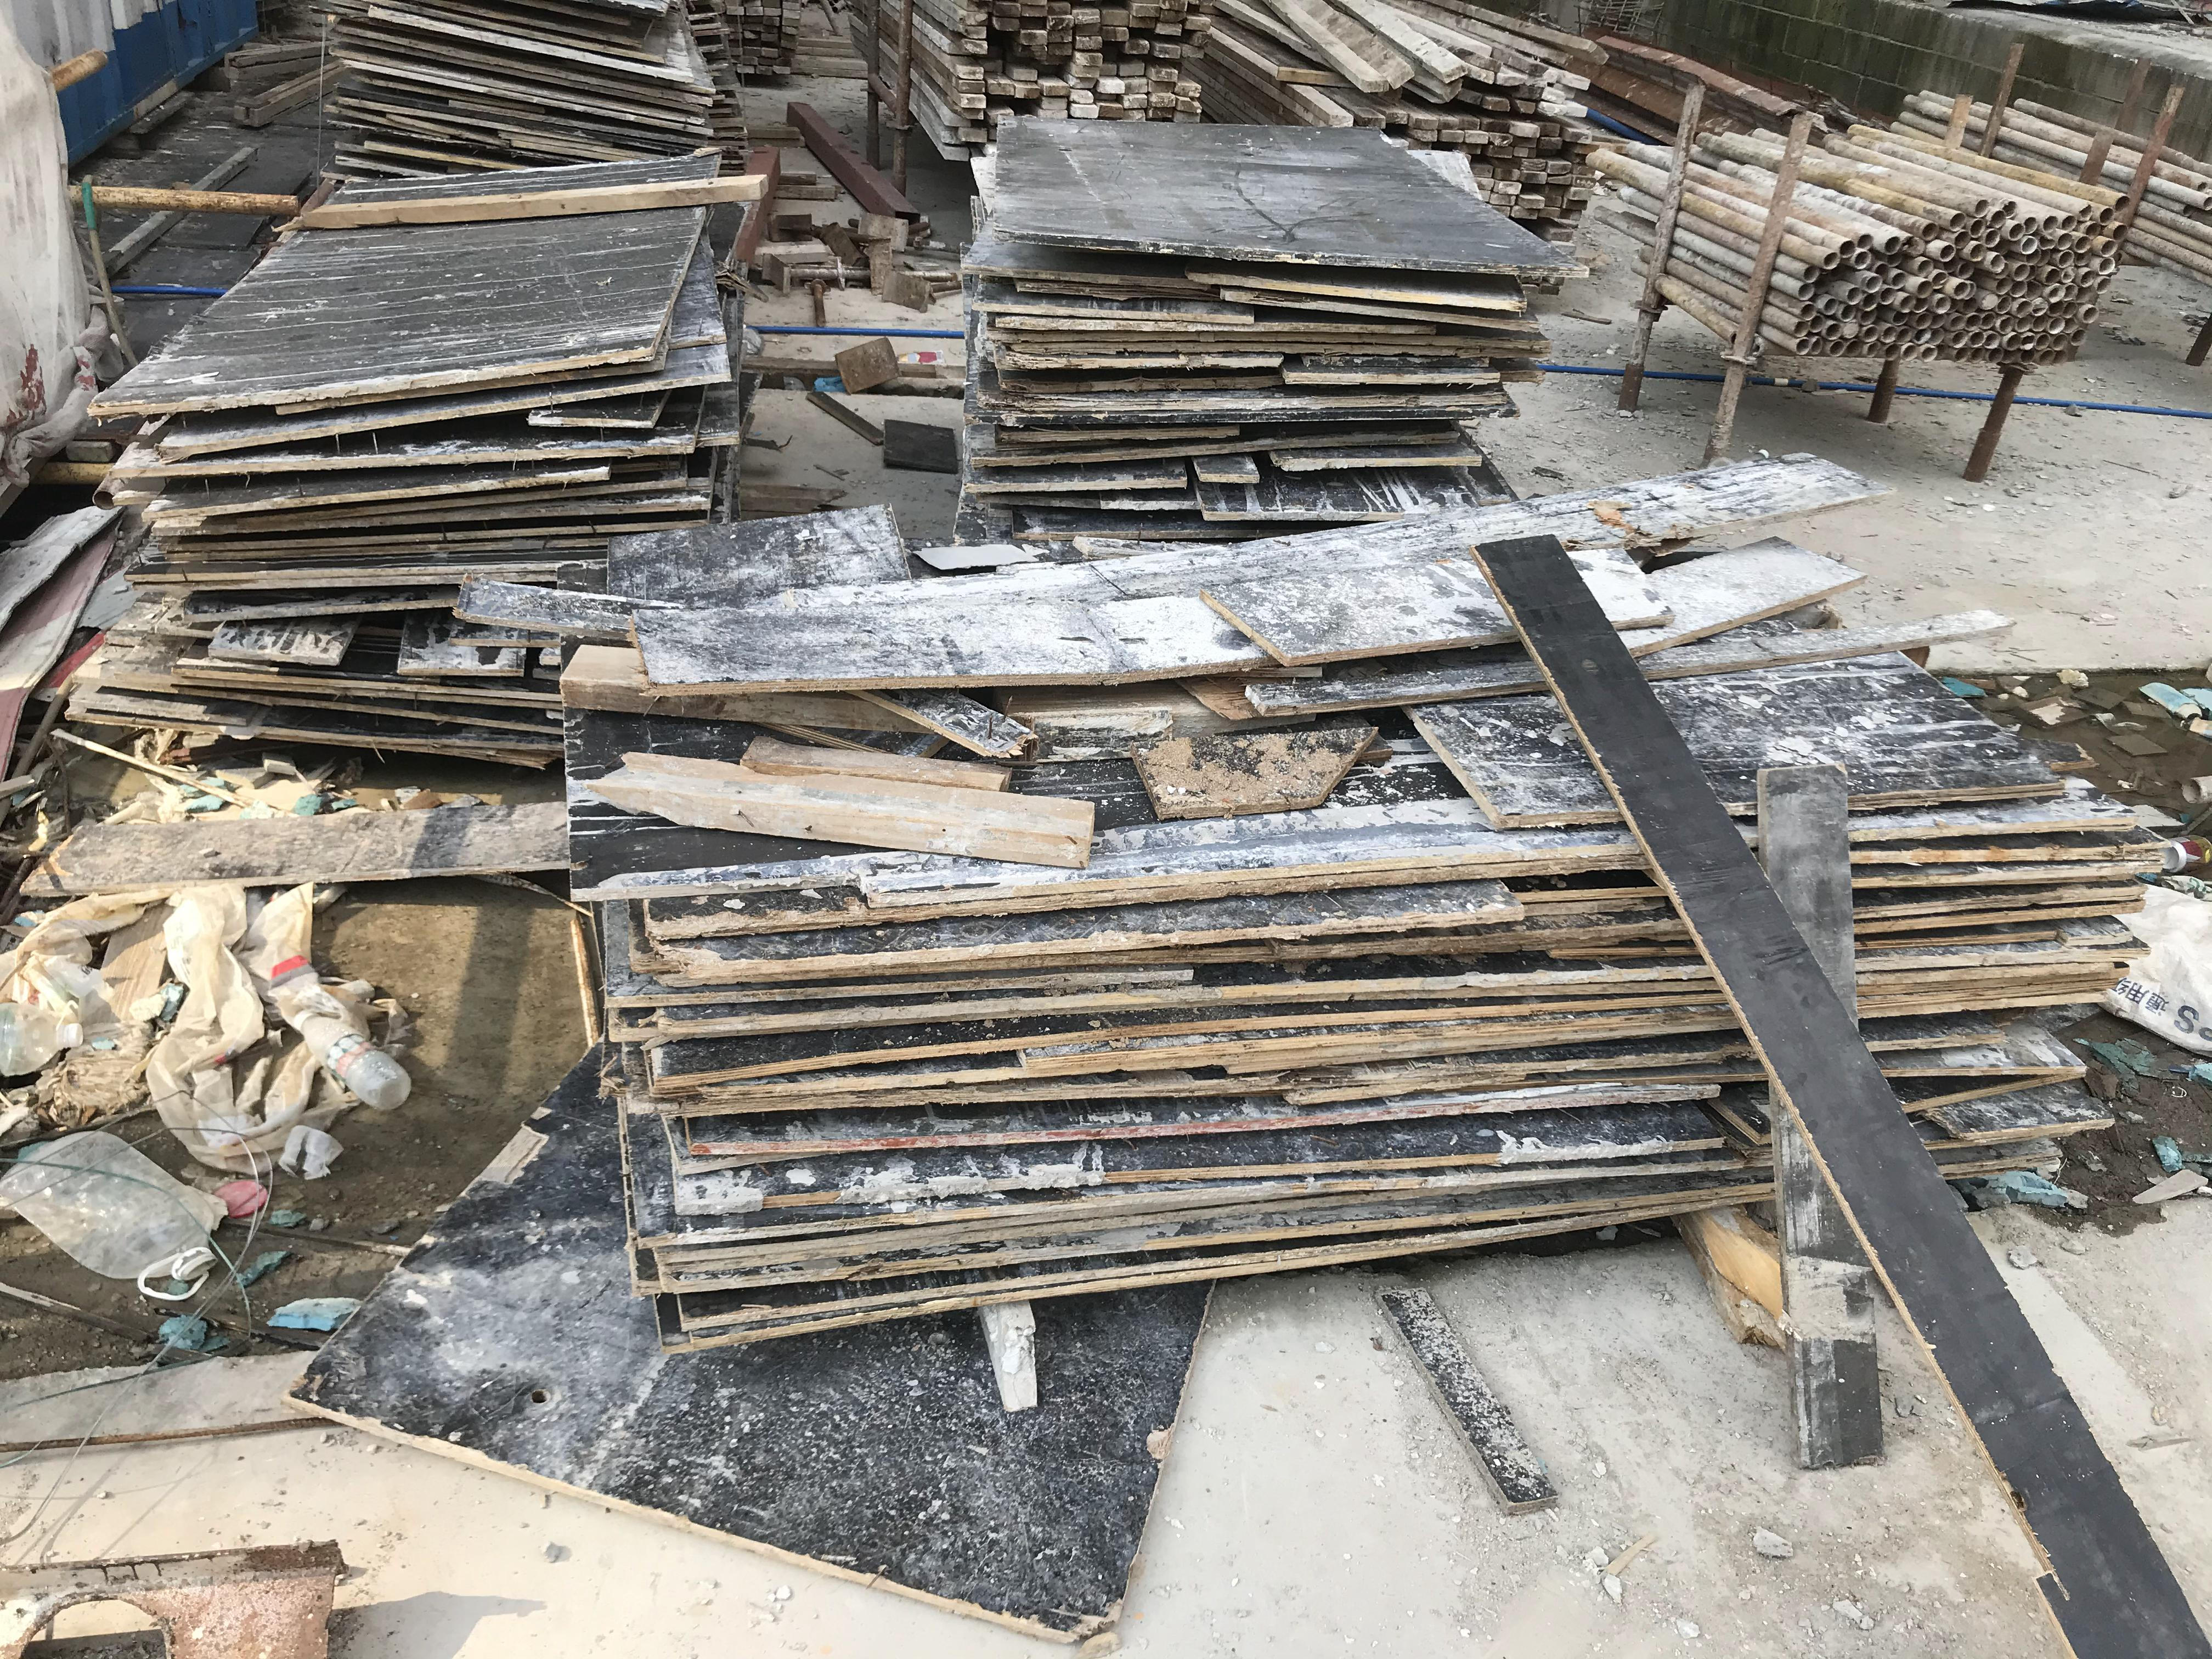board: (559, 453, 2163, 1349), (64, 150, 742, 762), (951, 127, 1541, 528), (319, 0, 721, 166)
wood: (1200, 0, 1609, 249), (852, 0, 1212, 164)
